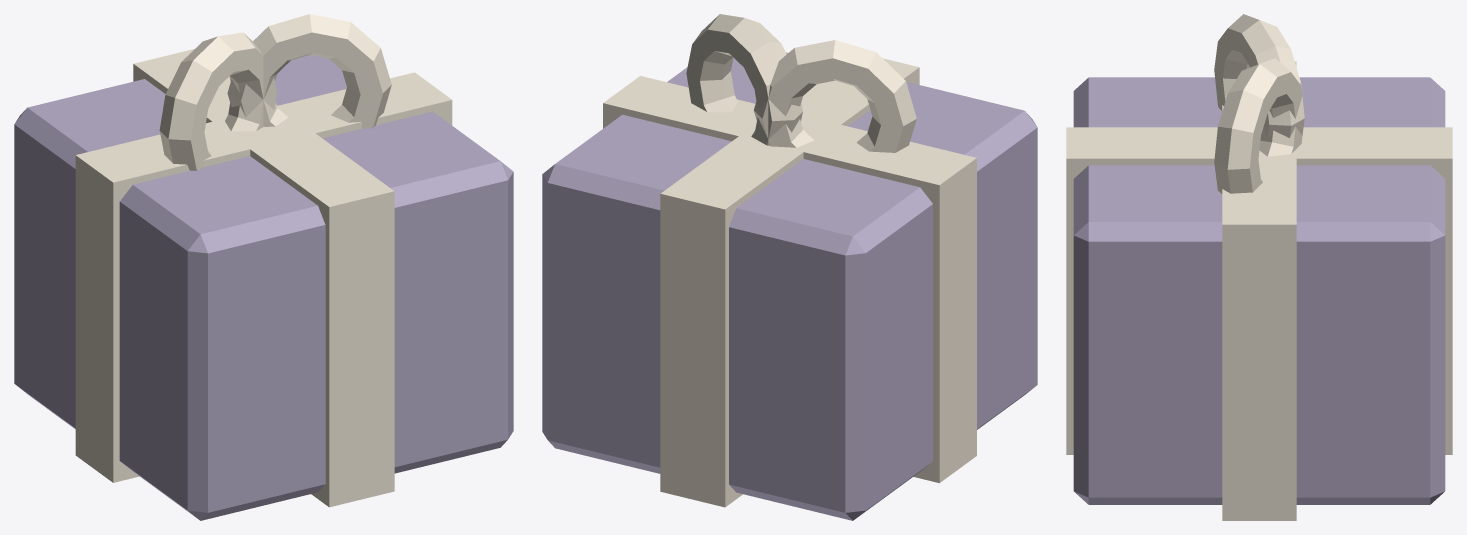
The model's file is sb_present_lavender.glb.
3 views of the same model, side by side, from view 1: azimuth 30°, elevation 25°; view 2: azimuth 150°, elevation 25°; view 3: azimuth 270°, elevation 25° (orthographic).
Visible parts, largest first — view 1: present_lavender; view 2: present_lavender; view 3: present_lavender.
Part boxes in pixels (x1,y1,x2,y2): present_lavender: (14, 14, 513, 520); present_lavender: (542, 14, 1037, 520); present_lavender: (1066, 14, 1452, 520).
Size of the model in its own units: 0.52 by 0.59 by 0.52.
